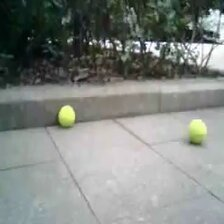tennis: (188, 119, 207, 145), (58, 106, 74, 125)
